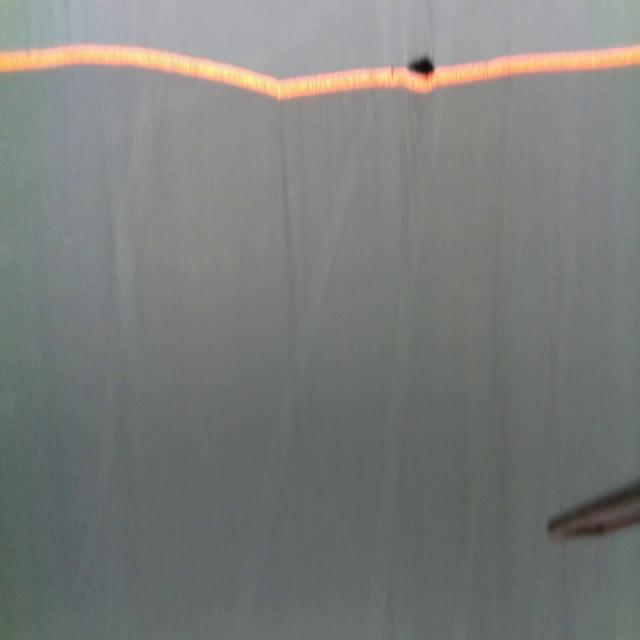hole: (407, 54, 438, 79)
